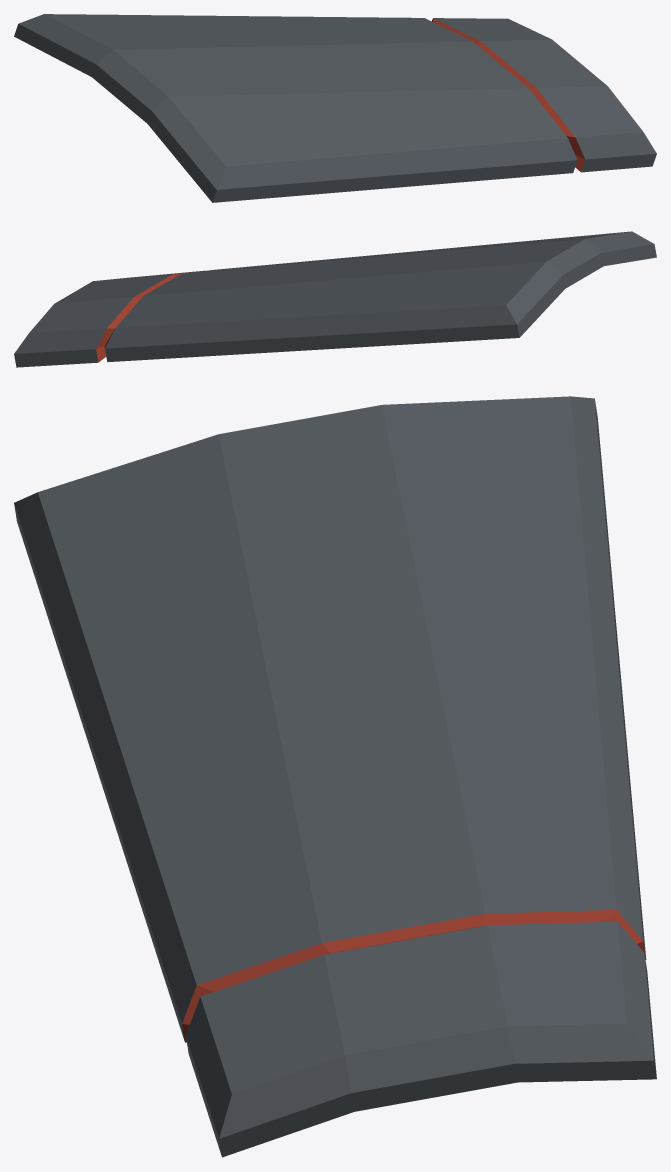
File: Fighter_06_Rear_Wing_Left_Red.fbx
3 renders of one model, top to bottom at view 1: azimuth 30°, elevation 25°; view 2: azimuth 150°, elevation 25°; view 3: azimuth 270°, elevation 25°, orthographic. The views are drawn at different scales.
Visible parts, largest first — view 1: Fighter_06_Rear_Wing_Left_Red; view 2: Fighter_06_Rear_Wing_Left_Red; view 3: Fighter_06_Rear_Wing_Left_Red.
Boxes of the visible parts, x1,y1,x2,y2 form: Fighter_06_Rear_Wing_Left_Red: [14, 14, 656, 202]; Fighter_06_Rear_Wing_Left_Red: [14, 231, 656, 367]; Fighter_06_Rear_Wing_Left_Red: [14, 396, 656, 1157].
Bounding box in the file's own units: 394 × 143 × 243.
1 material, 1 textured.
